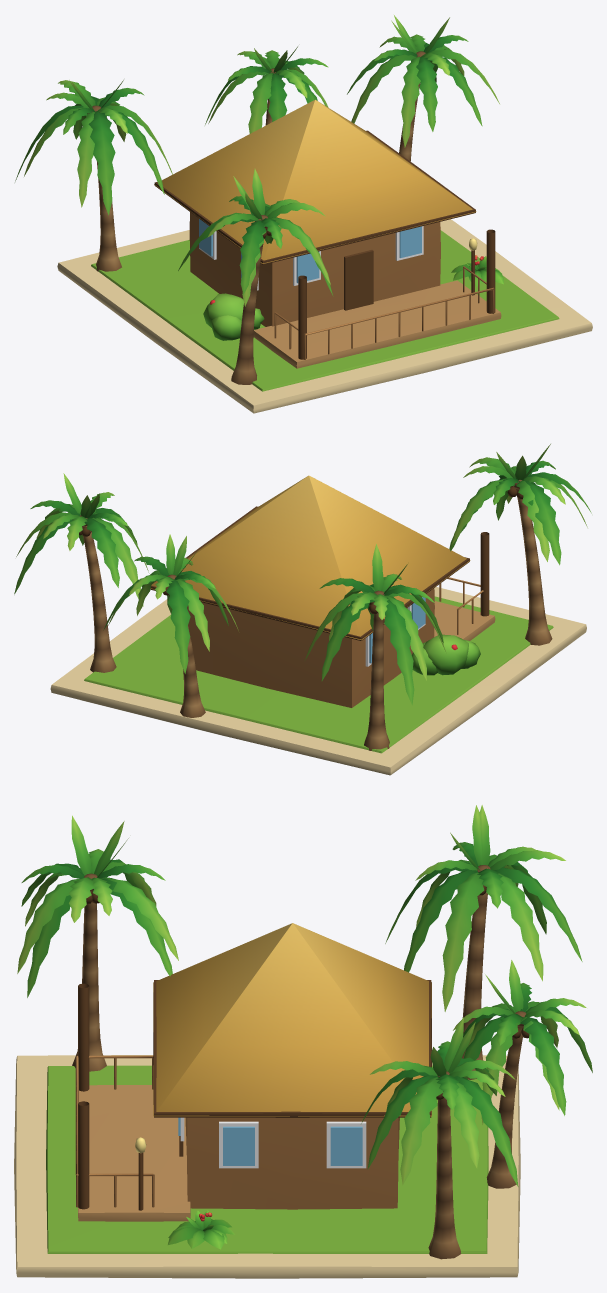
Rendered from BeachHotel_L2.obj.
The picture shows the model from 3 angles, top to bottom: view 1: azimuth 30°, elevation 25°; view 2: azimuth 150°, elevation 25°; view 3: azimuth 270°, elevation 25°; orthographic projection. The views are drawn at different scales.
Visible parts, largest first — view 1: BeachHotel_L2; view 2: BeachHotel_L2; view 3: BeachHotel_L2.
Boxes of the visible parts, x1,y1,x2,y2 form: BeachHotel_L2: (15, 15, 592, 413); BeachHotel_L2: (14, 444, 591, 775); BeachHotel_L2: (14, 805, 592, 1278).
Size of the model in its own units: 5.06 by 2.28 by 4.57.
1 material, 1 textured.
